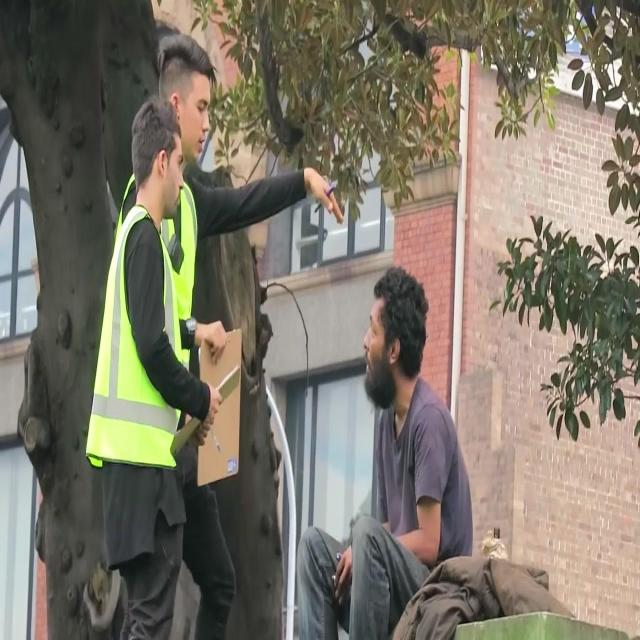Reflective-Jacket: (76, 169, 204, 483)
